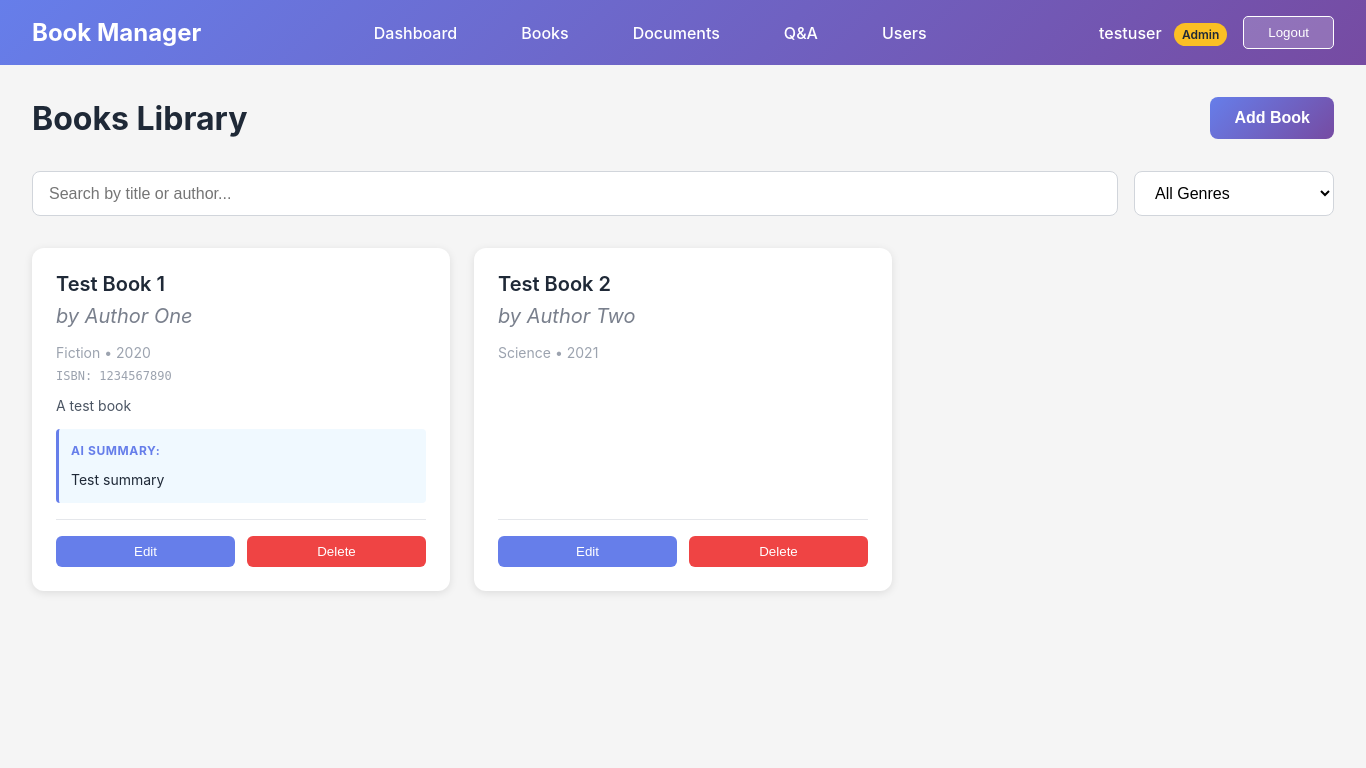
Test: Books Component › Edit book functionality › should open edit modal with book data
Click the button "Edit" below "Test summary": (146, 552) [56,536,235,567]
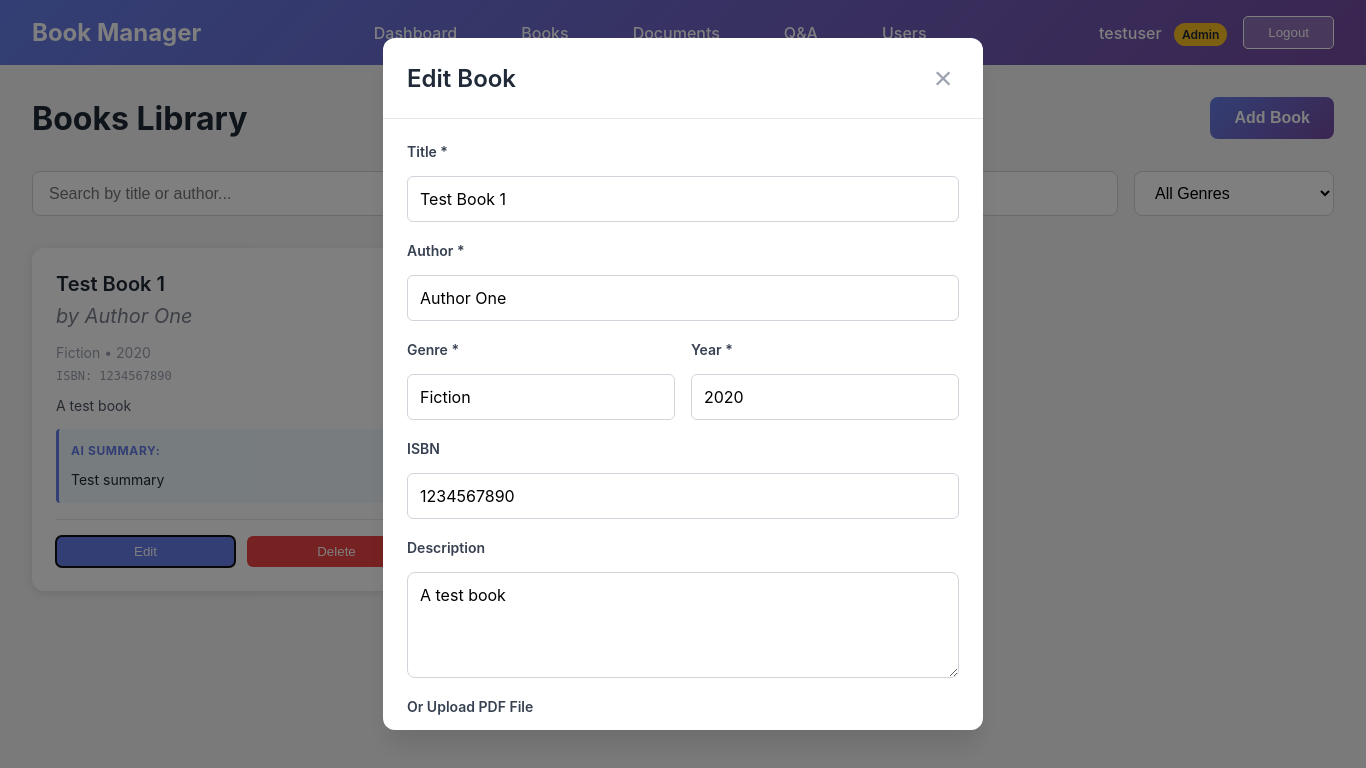
Check: the heading "Edit Book" is shown, box [407,64,516,93]
Check: the field showing "Test Book 1" is shown, box [407,176,959,222]
Check: the field showing "Author One" is shown, box [407,275,959,321]
